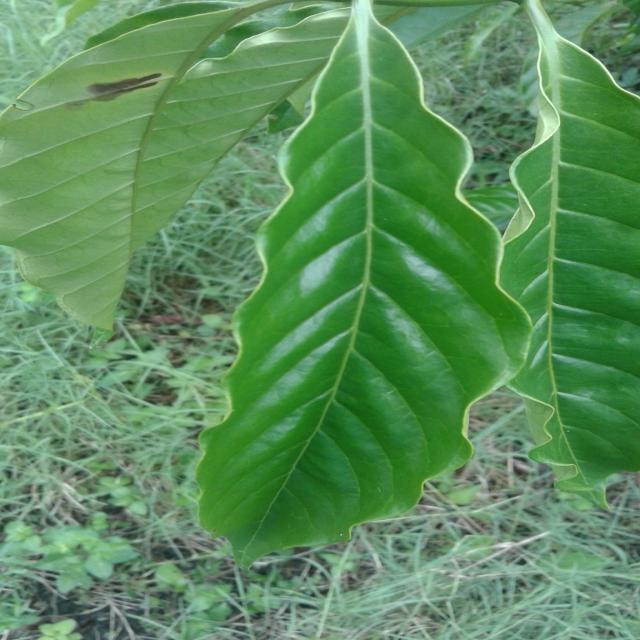Sanas: (191, 0, 531, 568)
